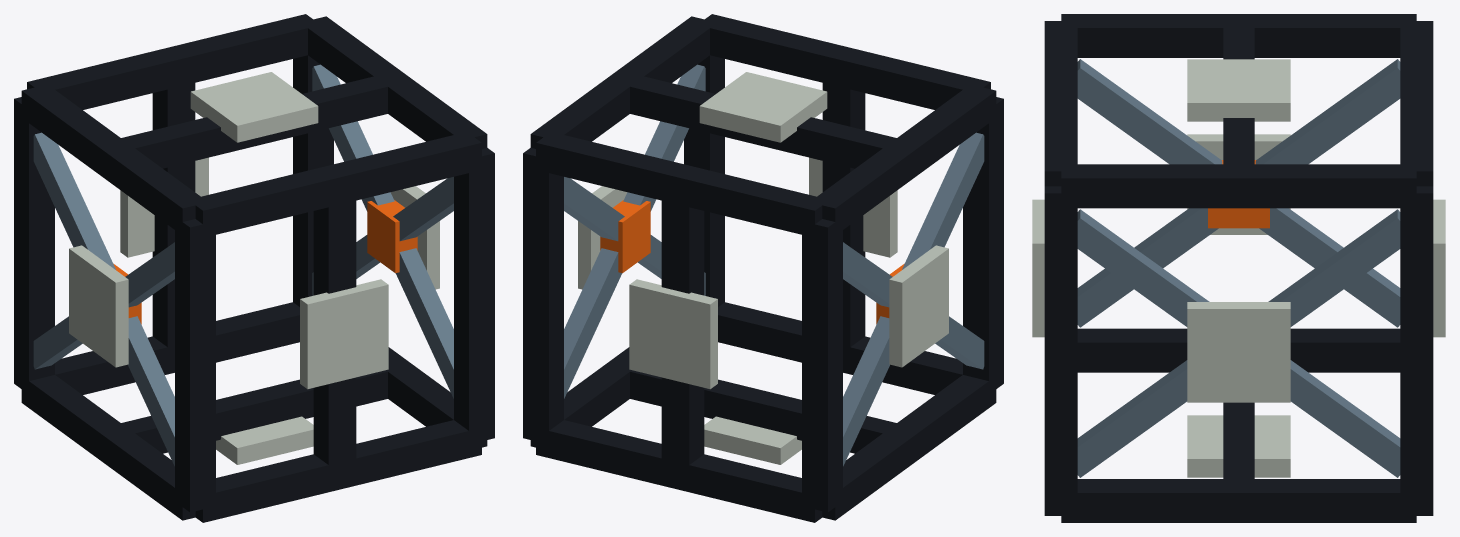
The picture shows the model from 3 angles, left to right: view 1: azimuth 30°, elevation 25°; view 2: azimuth 150°, elevation 25°; view 3: azimuth 270°, elevation 25°; orthographic projection. The views are drawn at different scales.
Visible parts, largest first — view 1: Longitudinal_L_T, Front_Crossbar_Top, Longitudinal_R_T, Front_Crossbar_Bottom, Rear_Crossbar_Top, Longitudinal_L_B, Front_Upright_Left, SNAP_Top_Plate, Rear_Upright_Left, Front_SNAP_LoadBridge, Center_Spine_Top, Front_Upright_Right (+19 smaller); view 2: Longitudinal_L_B, Front_Crossbar_Bottom, Longitudinal_R_B, Front_Crossbar_Top, Rear_Crossbar_Bottom, Longitudinal_L_T, Front_Upright_Left, SNAP_Bottom_Plate, Rear_Upright_Left, Front_SNAP_LoadBridge, Center_Spine_Bottom, Front_Upright_Right (+19 smaller); view 3: Front_Upright_Right, Rear_Upright_Right, Front_Upright_Left, Longitudinal_R_T, Longitudinal_R_B, SNAP_Right_Plate, Rear_Upright_Left, SNAP_Front_Plate, Front_Crossbar_Top, Front_Crossbar_Bottom, X_Rib_Left_Front_B, X_Rib_Left_Front_T (+13 smaller).
Part boxes in pixels (x1,y1,x2,y2): Longitudinal_L_T: [175, 217, 215, 512]; Front_Crossbar_Top: [189, 132, 481, 236]; Longitudinal_R_T: [454, 147, 494, 444]; Front_Crossbar_Bottom: [27, 14, 319, 109]; Rear_Crossbar_Top: [195, 420, 481, 522]; Longitudinal_L_B: [14, 97, 54, 394]; Front_Upright_Left: [21, 87, 207, 229]; SNAP_Top_Plate: [300, 279, 388, 389]; Rear_Upright_Left: [21, 375, 195, 520]; Front_SNAP_LoadBridge: [109, 73, 400, 168]; Center_Spine_Top: [313, 200, 356, 464]; Front_Upright_Right: [301, 16, 487, 148]; Longitudinal_L_B: [802, 217, 842, 512]; Front_Crossbar_Bottom: [536, 132, 829, 234]; Longitudinal_R_B: [523, 147, 563, 441]; Front_Crossbar_Top: [697, 14, 990, 109]; Rear_Crossbar_Bottom: [536, 420, 822, 522]; Longitudinal_L_T: [963, 97, 1003, 394]; Front_Upright_Left: [810, 87, 996, 234]; SNAP_Bottom_Plate: [629, 279, 717, 389]; Rear_Upright_Left: [822, 375, 996, 520]; Front_SNAP_LoadBridge: [619, 73, 909, 168]; Center_Spine_Bottom: [661, 200, 704, 464]; Front_Upright_Right: [530, 16, 716, 148]; Front_Upright_Right: [1061, 164, 1416, 208]; Rear_Upright_Right: [1061, 479, 1416, 522]; Front_Upright_Left: [1061, 14, 1416, 57]; Longitudinal_R_T: [1044, 186, 1077, 507]; Longitudinal_R_B: [1400, 186, 1433, 507]; SNAP_Right_Plate: [1187, 302, 1290, 402]; Rear_Upright_Left: [1077, 328, 1400, 372]; SNAP_Front_Plate: [1187, 59, 1290, 121]; Front_Crossbar_Top: [1044, 21, 1077, 186]; Front_Crossbar_Bottom: [1400, 21, 1433, 186]; X_Rib_Left_Front_B: [1255, 59, 1400, 164]; X_Rib_Left_Front_T: [1077, 59, 1222, 164].
Bounding box in the file's own units: 1 × 1 × 1.
